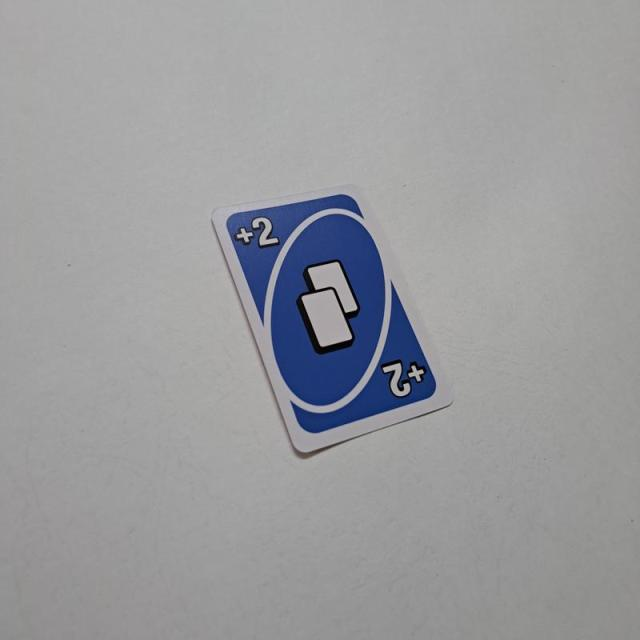Blue_Card: (222, 185, 439, 438)
Draw_Two: (232, 211, 284, 254)
